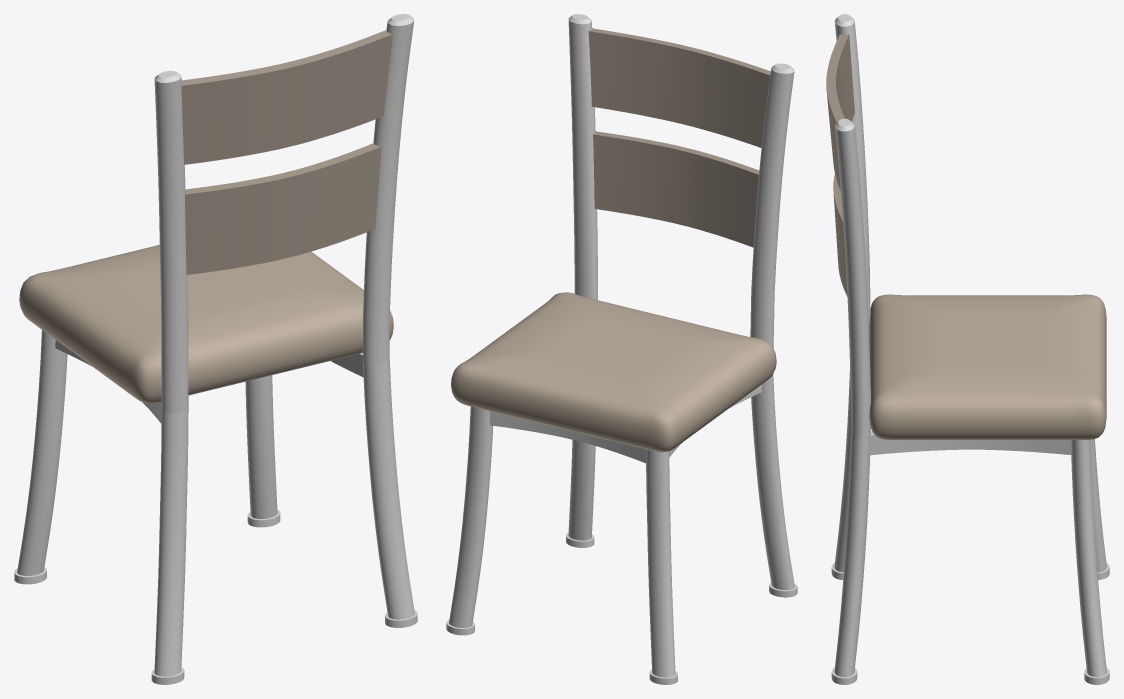
The model's file is Chaise3_3.fbx.
The picture shows the model from 3 angles, left to right: view 1: azimuth 30°, elevation 25°; view 2: azimuth 150°, elevation 25°; view 3: azimuth 270°, elevation 25°; orthographic projection. The views are drawn at different scales.
Visible parts, largest first — view 1: pCube2672, pCube2679, pCube2680, pCylinder1672, pCylinder1671, pCylinder1667, pCylinder1668, pCylinder1670, pCylinder1669; view 2: pCube2672, pCube2679, pCube2680, pCylinder1672, pCylinder1671, pCylinder1670, pCylinder1669, pCylinder1667, pCylinder1668, pCube2674; view 3: pCube2672, pCylinder1671, pCylinder1668, pCylinder1669, pCube2675, pCube2679, pCylinder1672, pCylinder1667, pCylinder1670, pCube2680.
Boxes of the visible parts, box(x1,y1,x2,y2) form: pCube2672: box(19, 245, 393, 403); pCube2679: box(181, 30, 392, 164); pCube2680: box(185, 143, 381, 274); pCylinder1672: box(154, 71, 188, 413); pCylinder1671: box(363, 14, 414, 364); pCylinder1667: box(151, 408, 188, 684); pCylinder1668: box(363, 360, 417, 627); pCylinder1670: box(14, 330, 67, 584); pCylinder1669: box(245, 375, 280, 527); pCube2672: box(451, 292, 776, 452); pCube2679: box(588, 28, 770, 147); pCube2680: box(593, 131, 759, 247); pCylinder1672: box(750, 63, 794, 347); pCylinder1671: box(568, 14, 597, 299); pCylinder1670: box(646, 449, 677, 684); pCylinder1669: box(446, 406, 493, 635); pCylinder1667: box(751, 374, 797, 597); pCylinder1668: box(566, 439, 595, 547); pCube2674: box(489, 411, 645, 463); pCube2672: box(869, 294, 1106, 439); pCylinder1671: box(834, 118, 870, 438); pCylinder1668: box(831, 434, 870, 684); pCylinder1669: box(1071, 440, 1109, 684); pCube2675: box(869, 431, 1071, 455); pCube2679: box(826, 34, 854, 191); pCylinder1672: box(834, 14, 870, 335); pCylinder1667: box(831, 369, 850, 579); pCylinder1670: box(1090, 439, 1109, 579); pCube2680: box(833, 174, 847, 296).
Bounding box in the file's own units: 39.07 × 85.74 × 39.63.
